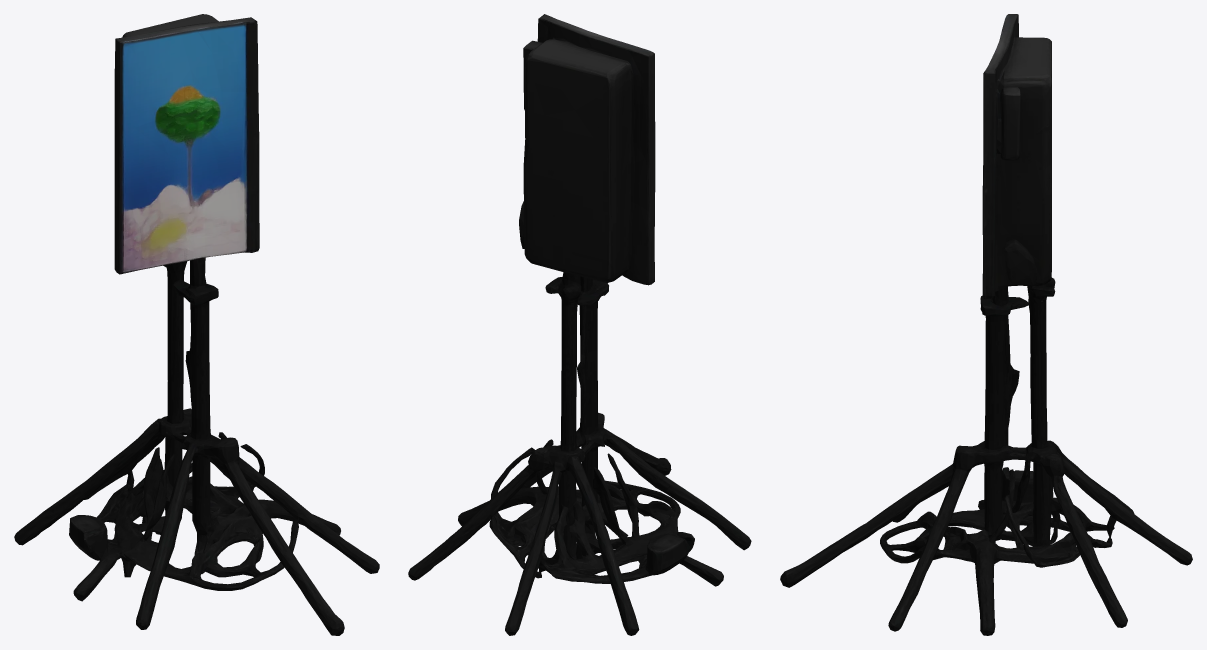
File: floorTV5.glb
3 views of the same model, side by side, from view 1: azimuth 30°, elevation 25°; view 2: azimuth 150°, elevation 25°; view 3: azimuth 270°, elevation 25° (orthographic). The views are drawn at different scales.
Parts seen in each view (by area): view 1: geometry_0; view 2: geometry_0; view 3: geometry_0.
Part boxes in pixels (left/top/right/bottom): geometry_0: left=14, top=14, right=379, bottom=635; geometry_0: left=408, top=14, right=751, bottom=635; geometry_0: left=780, top=14, right=1192, bottom=635.
Size of the model in its own units: 0.52 by 1 by 0.7134.
1 material, 1 textured.
